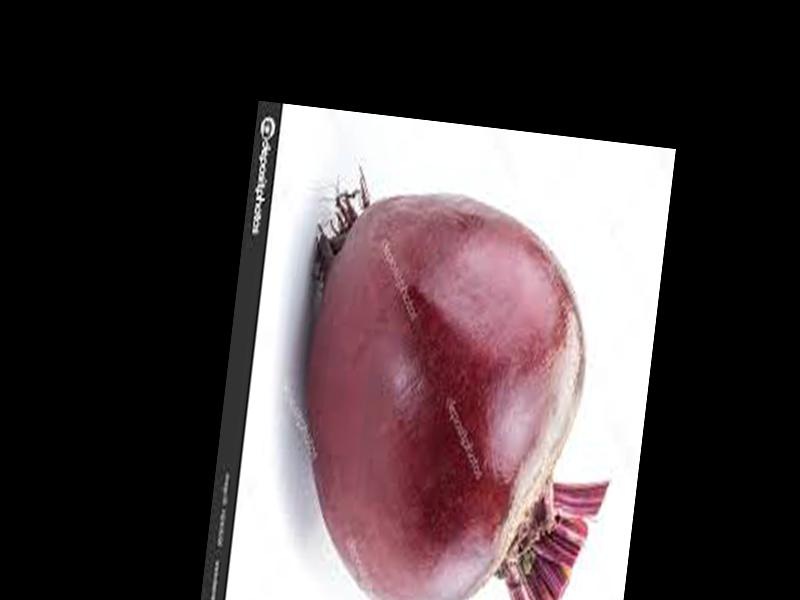Beet: (278, 181, 636, 600)
